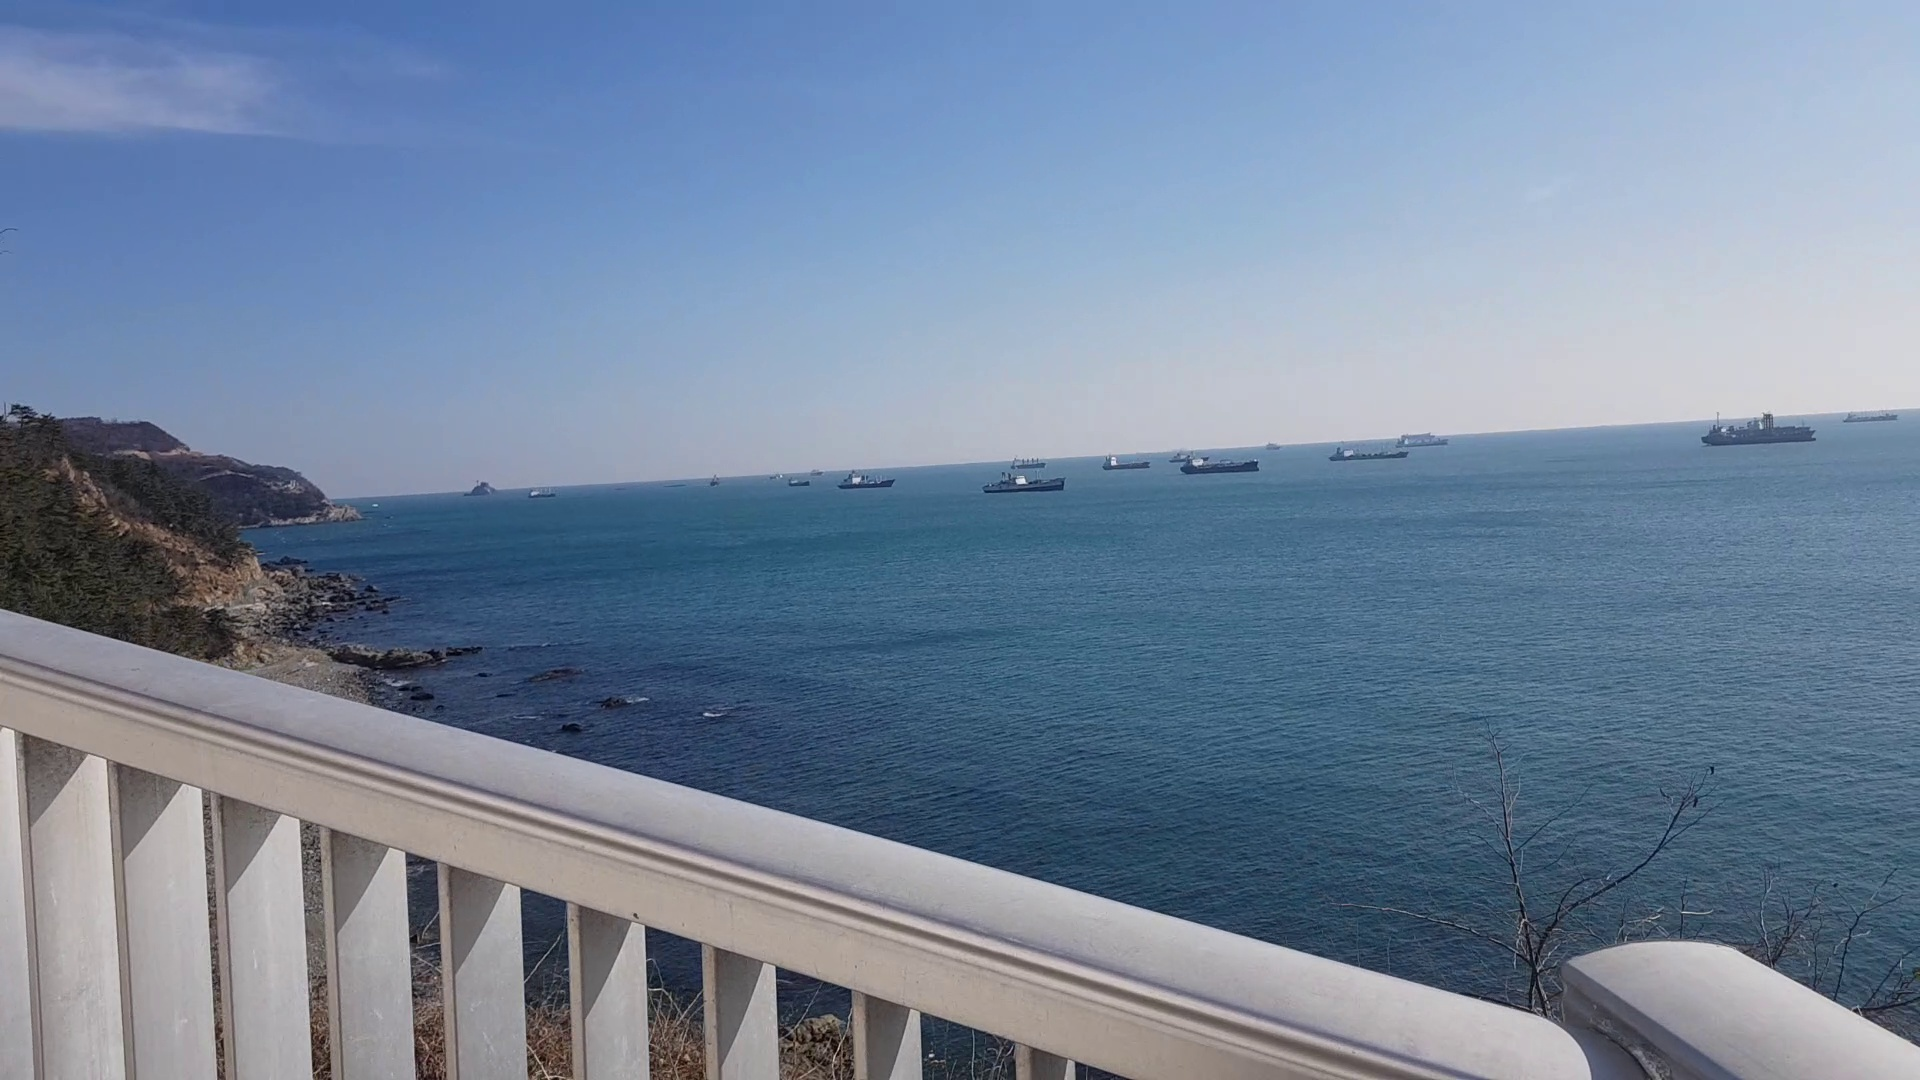Bulk_Carrier: (836, 473, 891, 487)
